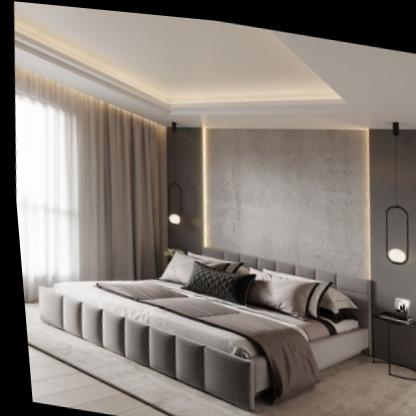Bed: (34, 244, 367, 407)
Carpet: (19, 304, 416, 416)
Curtains: (13, 66, 164, 303)
Gypsum Board: (10, 1, 416, 140)
Wall Panel: (164, 121, 416, 314)
Wooden floor: (22, 345, 168, 416)
